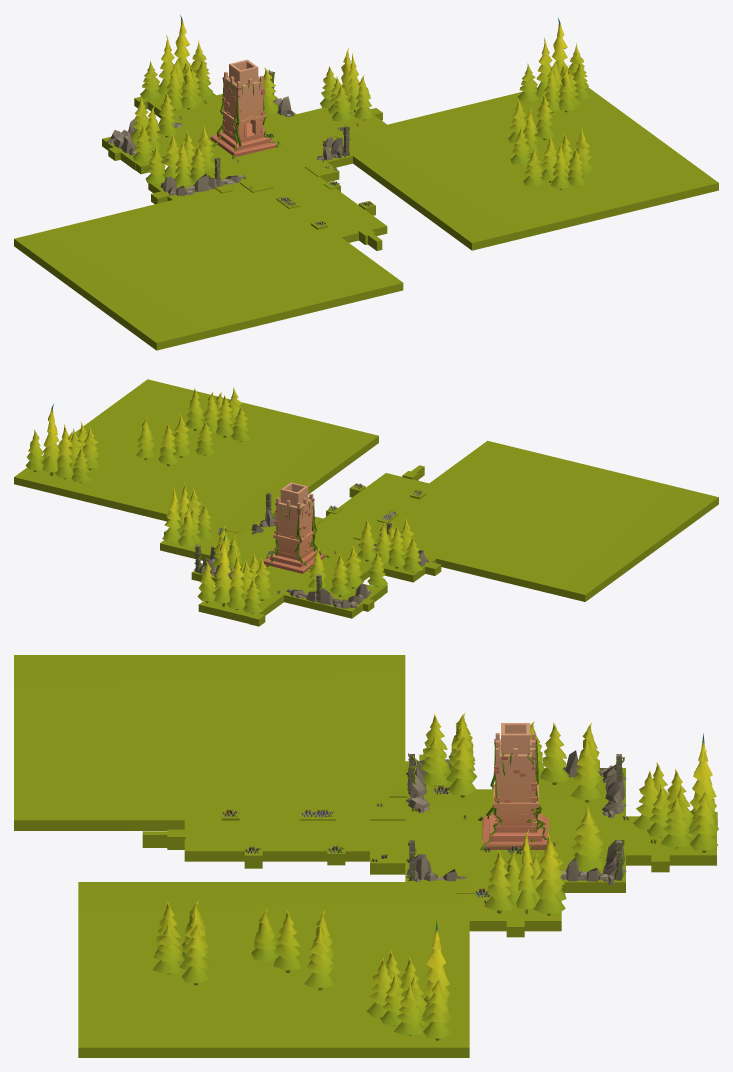
The model's file is Env.fbx.
The picture shows the model from 3 angles, top to bottom: view 1: azimuth 30°, elevation 25°; view 2: azimuth 150°, elevation 25°; view 3: azimuth 270°, elevation 25°; orthographic projection. The views are drawn at different scales.
Parts seen in each view (by area): view 1: box1121111, box11323111111312, box2212, sphere11412111; view 2: box1121111, box11323111111312, box2212, sphere11412111, cone121115, cone1122, cone121117, cone114, cone1141, cone121128, cone113, cone121116 (+17 smaller); view 3: box1121111, box11323111111312, box2212, sphere11412111, cone1141, cone12112, cone1122, cone121115, cone121125, cone1121, cone121116, cone1112 (+16 smaller).
Part boxes in pixels (x1=…): box1121111: x1=14, y1=87, x2=718, y2=350; box11323111111312: x1=159, y1=110, x2=382, y2=250; box2212: x1=210, y1=59, x2=276, y2=157; sphere11412111: x1=106, y1=96, x2=345, y2=195; box1121111: x1=14, y1=379, x2=718, y2=626; box11323111111312: x1=191, y1=471, x2=424, y2=611; box2212: x1=263, y1=482, x2=325, y2=573; sphere11412111: x1=194, y1=509, x2=429, y2=609; cone121115: x1=42, y1=404, x2=59, y2=475; cone1122: x1=214, y1=534, x2=231, y2=606; cone121117: x1=55, y1=424, x2=73, y2=479; cone114: x1=227, y1=555, x2=245, y2=610; cone1141: x1=162, y1=487, x2=181, y2=542; cone121128: x1=158, y1=423, x2=178, y2=466; cone113: x1=330, y1=554, x2=350, y2=596; cone121116: x1=172, y1=414, x2=191, y2=457; box1121111: x1=14, y1=655, x2=717, y2=1057; box11323111111312: x1=142, y1=789, x2=625, y2=892; box2212: x1=482, y1=723, x2=548, y2=849; sphere11412111: x1=406, y1=750, x2=626, y2=885; cone1141: x1=533, y1=833, x2=565, y2=915; cone12112: x1=571, y1=805, x2=606, y2=870; cone1122: x1=688, y1=733, x2=718, y2=835; cone121115: x1=421, y1=921, x2=451, y2=1023; cone121125: x1=304, y1=926, x2=335, y2=990; cone1121: x1=571, y1=738, x2=602, y2=802; cone121116: x1=273, y1=910, x2=302, y2=972; cone1112: x1=540, y1=722, x2=569, y2=785.
Size of the model in its own units: 101 by 15.77 by 76.69.
1 material, 1 textured.
